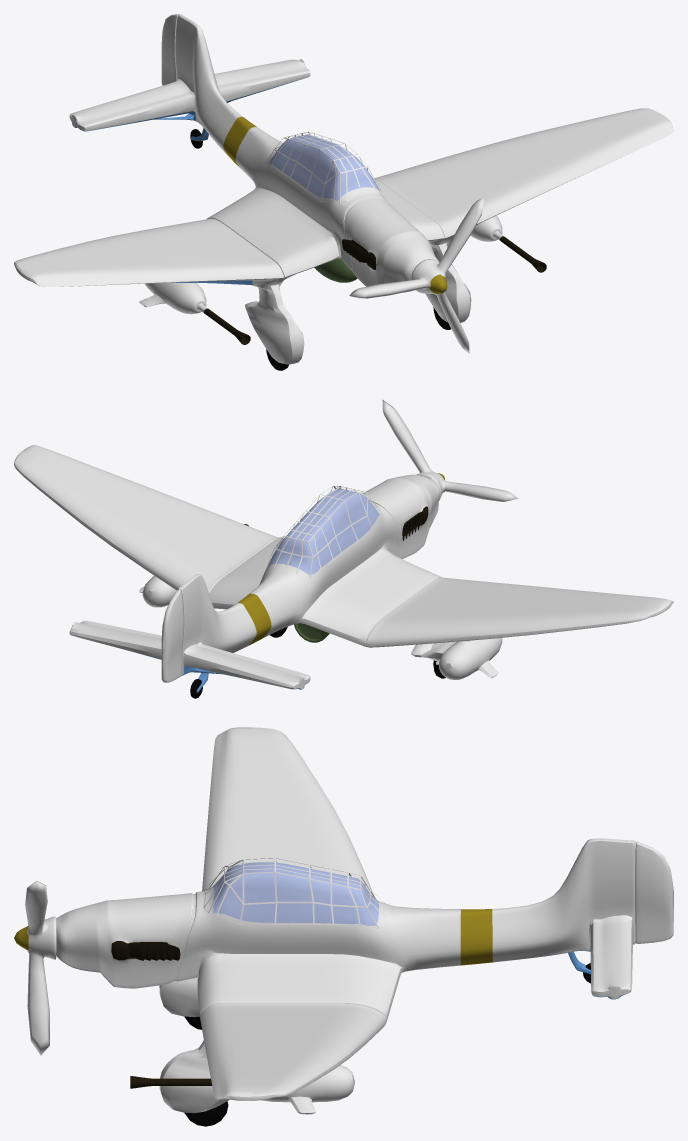
File: ju87_apply.fbx
3 views of the same model, one above another, from view 1: azimuth 30°, elevation 25°; view 2: azimuth 150°, elevation 25°; view 3: azimuth 270°, elevation 25° (orthographic). The views are drawn at different scales.
Visible parts, largest first — view 1: Plane, Cabin Mesh, Rotor; view 2: Plane, Cabin Mesh, Rotor; view 3: Plane, Cabin Mesh, Rotor, Front Wheels.
Boxes of the visible parts, x1,y1,x2,y2 form: Plane: (14,14,673,364); Cabin Mesh: (139,131,546,344); Rotor: (349,197,484,353); Plane: (14,445,673,698); Cabin Mesh: (139,486,502,679); Rotor: (382,399,517,501); Plane: (56,727,673,1113); Cabin Mesh: (130,858,386,1114); Rotor: (14,881,56,1055); Front Wheels: (184,1016,228,1126).
Bounding box in the file's own units: 787 × 237 × 593.
